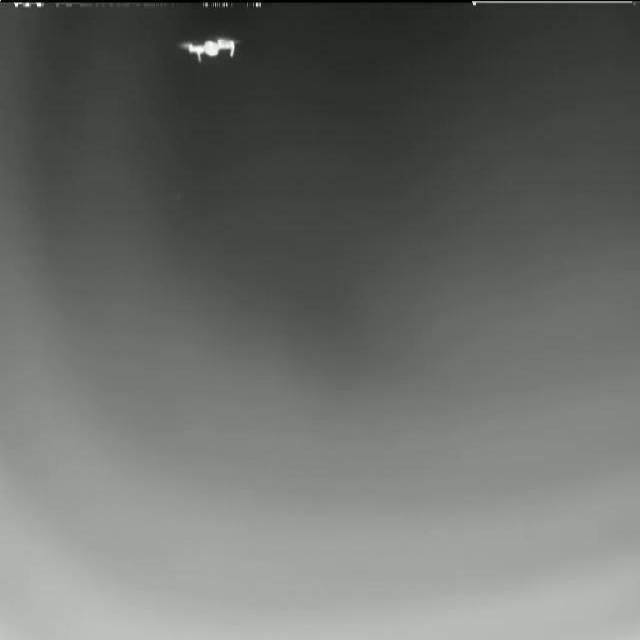DRONE: (179, 35, 244, 62)
